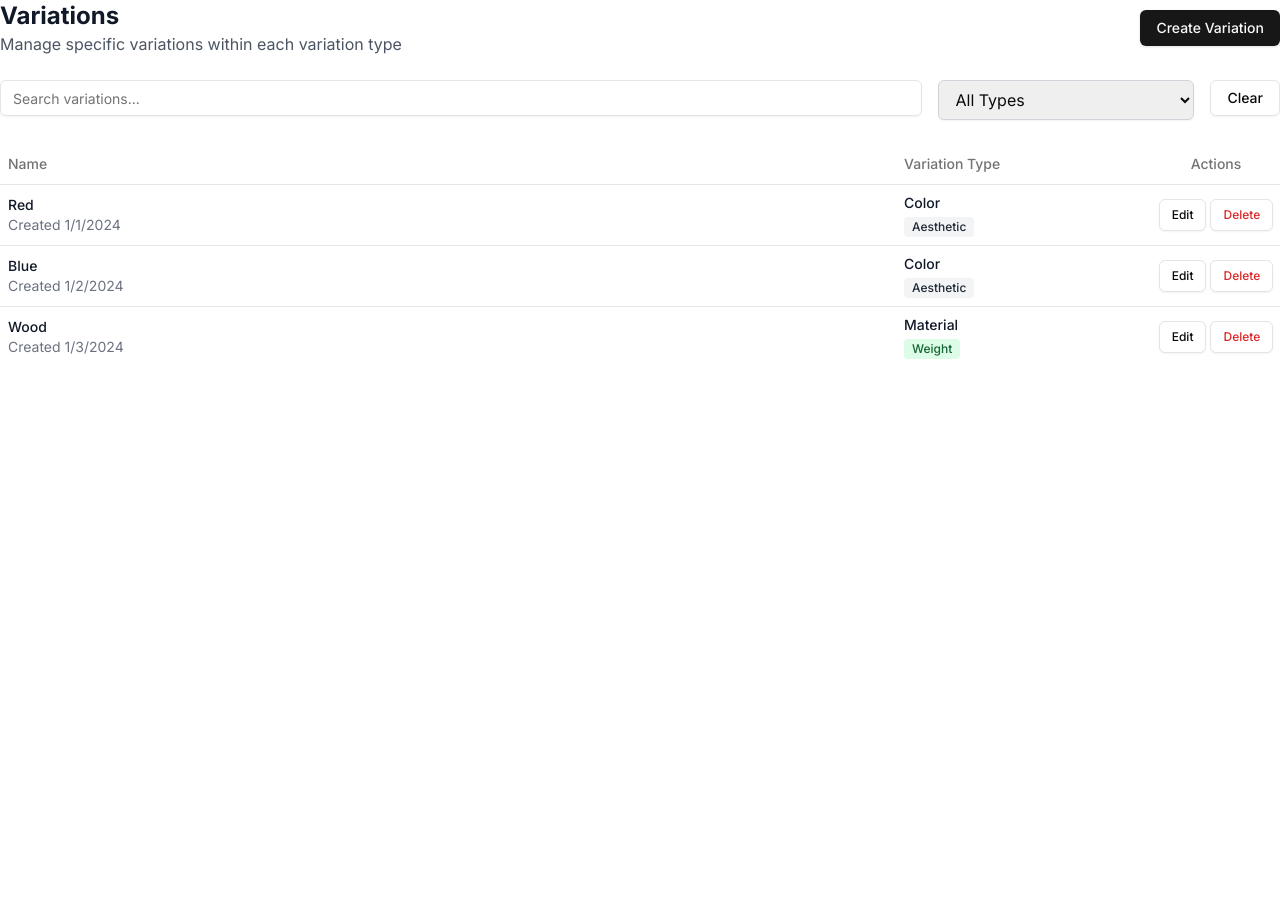
it: VariationList › opens delete confirmation when delete button is clicked
Click the button "Delete" in the row of "Red" at (1242, 214), box [1210,198,1273,230]
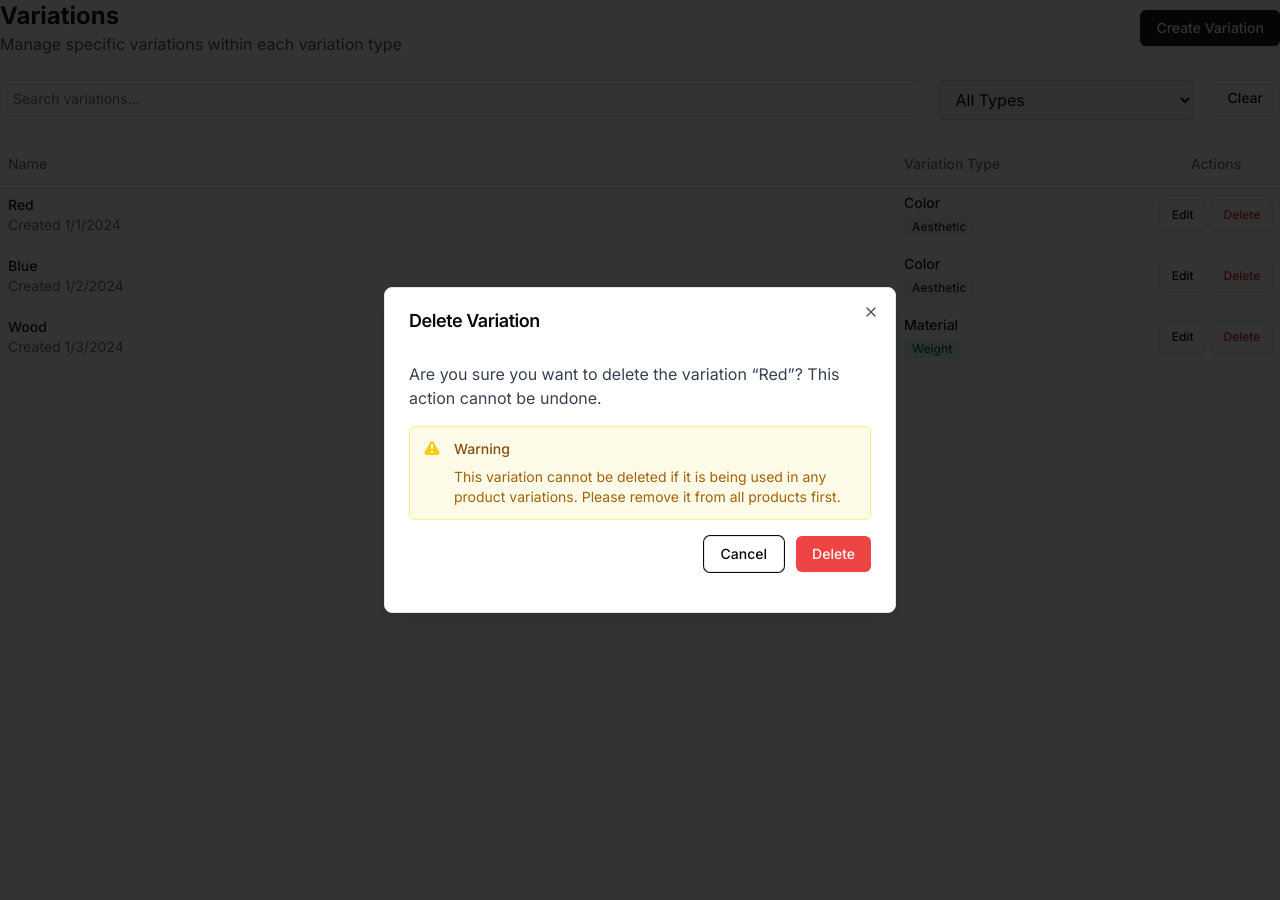
Expected: the heading "Delete Variation" is shown, [409,310,540,331]
